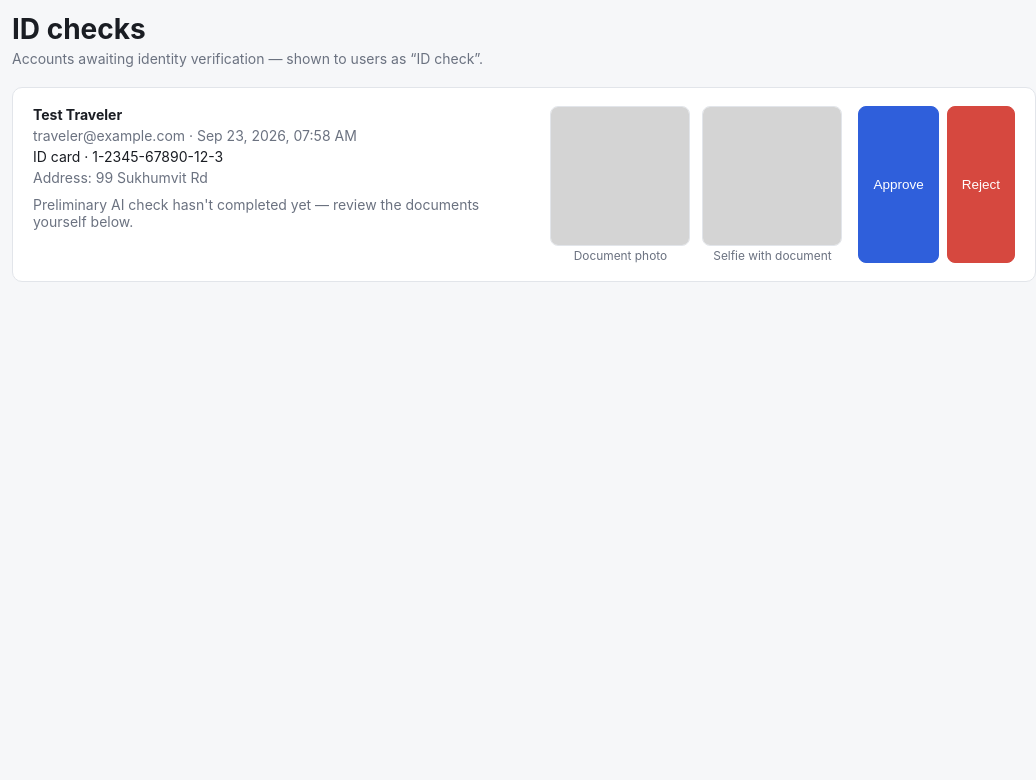
Test: IdChecksPage › hides a card the instant it is approved, without waiting on the list to refetch
Click the button "Approve": (899, 184) [858,106,939,263]
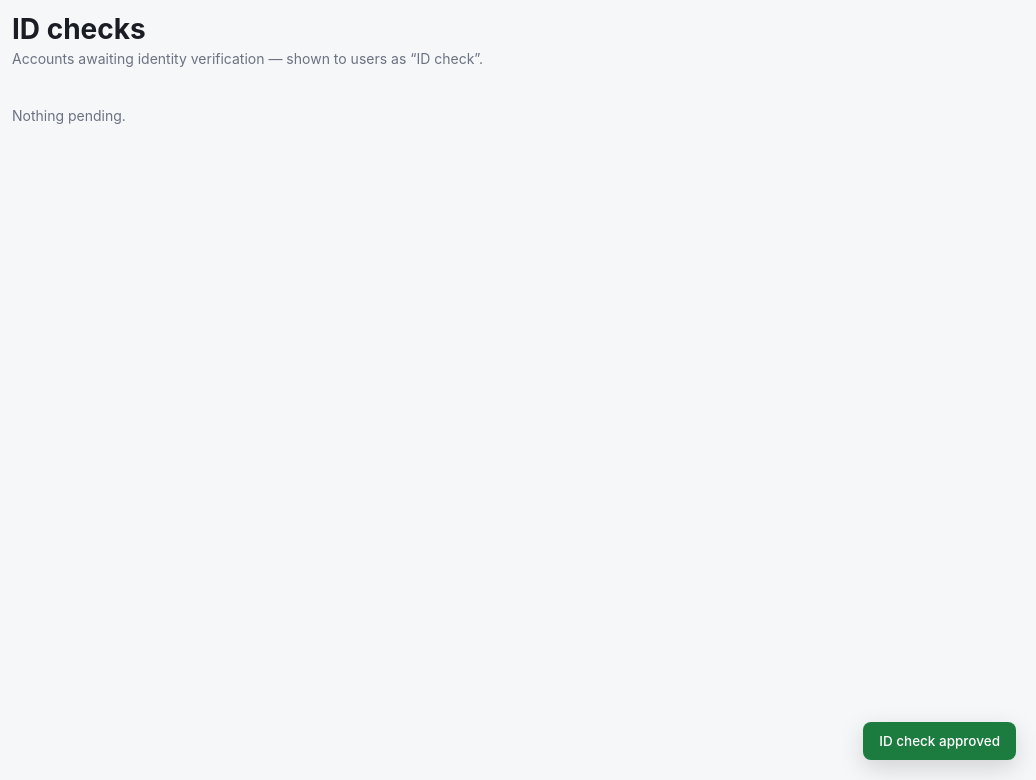
Check: the text "Nothing pending." is shown, box [12,107,126,124]
Check: the text "Test Traveler" is gone
